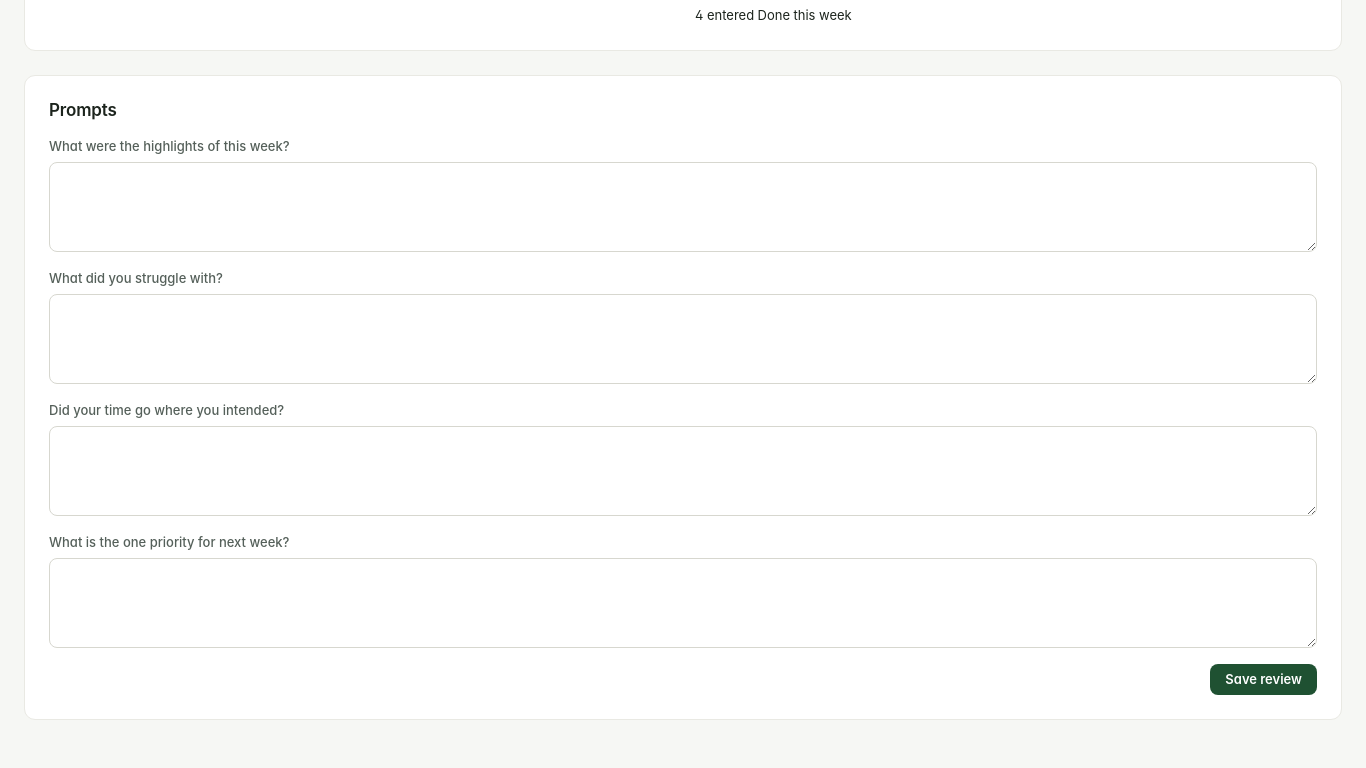
Test case: WeeklyReviewScreen › saves an answer and keeps it for the same week
(page scrolled)
Type "Ship the weekly review" into the text box labelled "What is the one priority for next week?". click: (683, 603)
box: x1=49 y1=558 x2=1317 y2=648
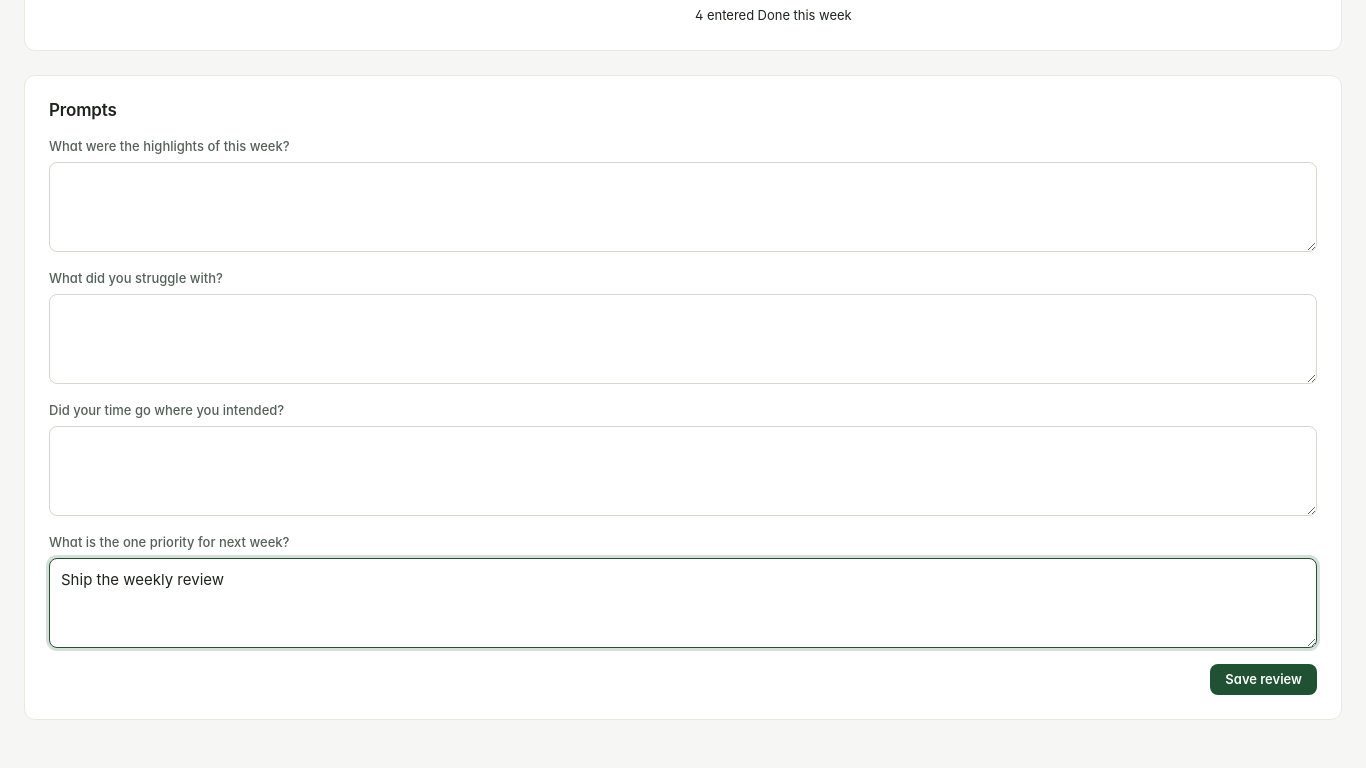
Click the button "Save review". click: click(1264, 679)
box: x1=1210 y1=664 x2=1317 y2=695
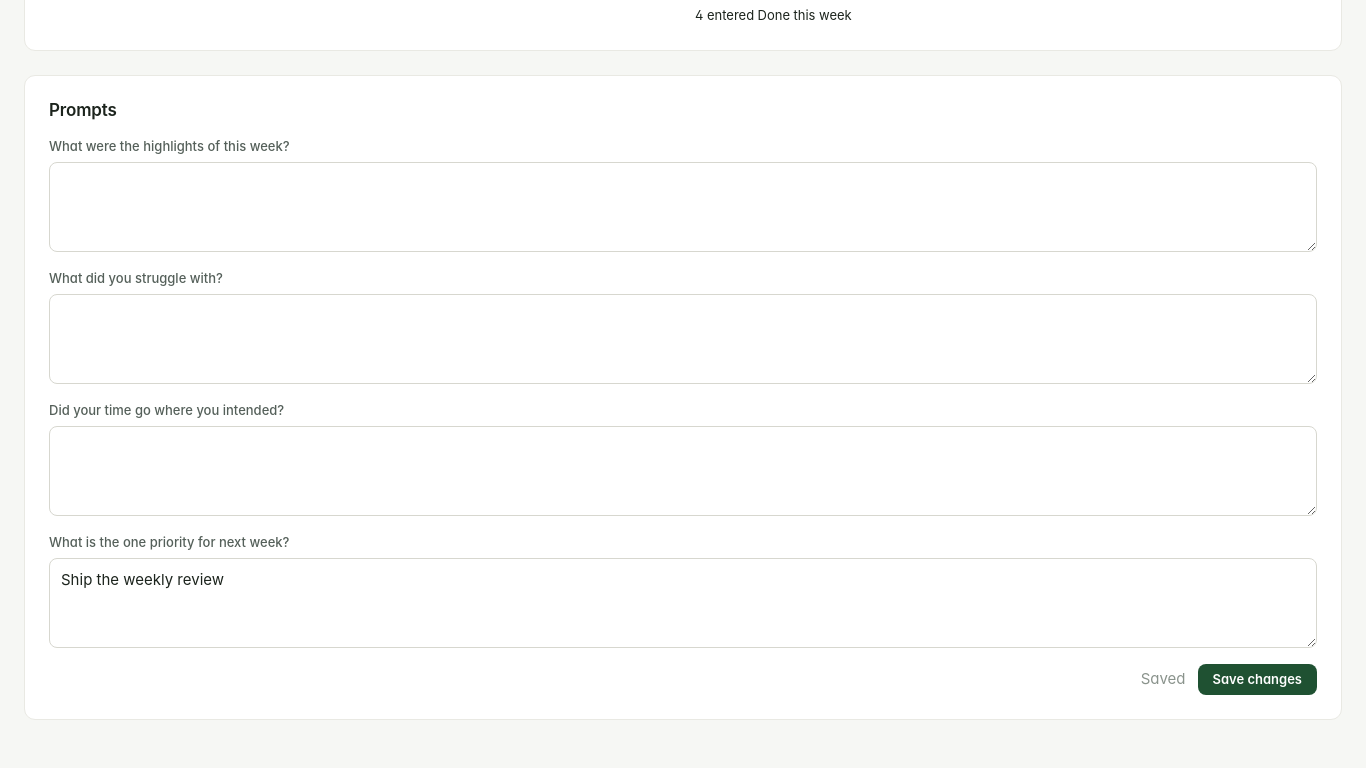
expect the text "Saved" is shown: met, box x1=1141 y1=668 x2=1186 y2=691
